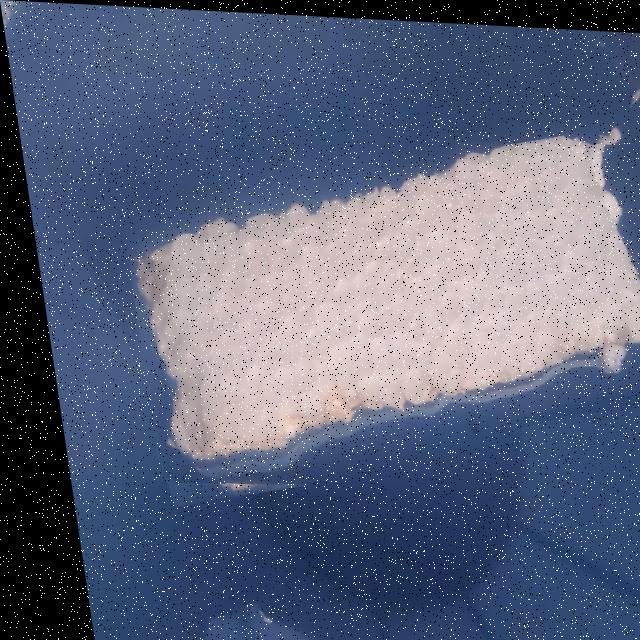litter: (68, 135, 640, 500), (105, 121, 640, 498)
